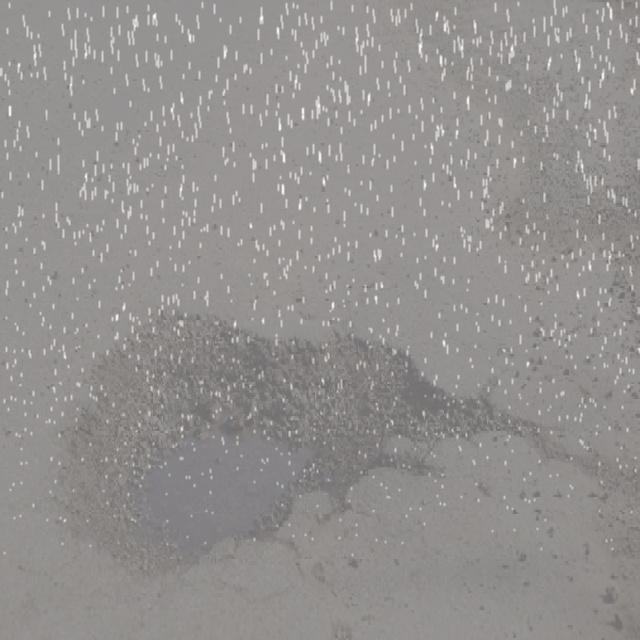Pothole: (52, 288, 518, 594)
